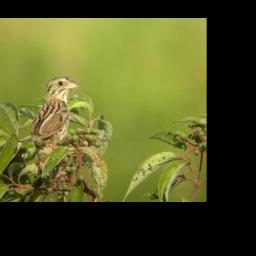Sparrow: (16, 74, 80, 170)
